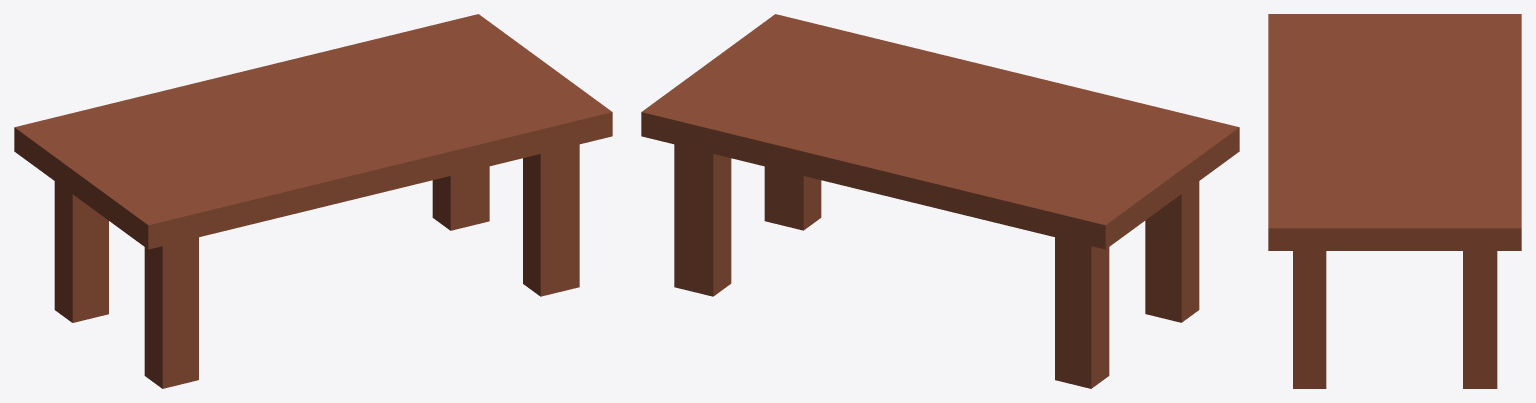
Rendered from Table_text.fbx.
3 renders of one model, left to right at view 1: azimuth 30°, elevation 25°; view 2: azimuth 150°, elevation 25°; view 3: azimuth 270°, elevation 25°, orthographic. The views are drawn at different scales.
Visible parts, largest first — view 1: Table; view 2: Table; view 3: Table.
Boxes of the visible parts, <box> form: Table: <box>14,14,612,388</box>; Table: <box>641,14,1239,388</box>; Table: <box>1268,14,1521,388</box>.
Size of the model in its own units: 200 by 74.02 by 100.
Materials: 1 (1 with a texture image).
